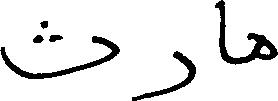X: (0, 16, 118, 83), (134, 46, 193, 100), (252, 28, 277, 64), (218, 0, 226, 66)
